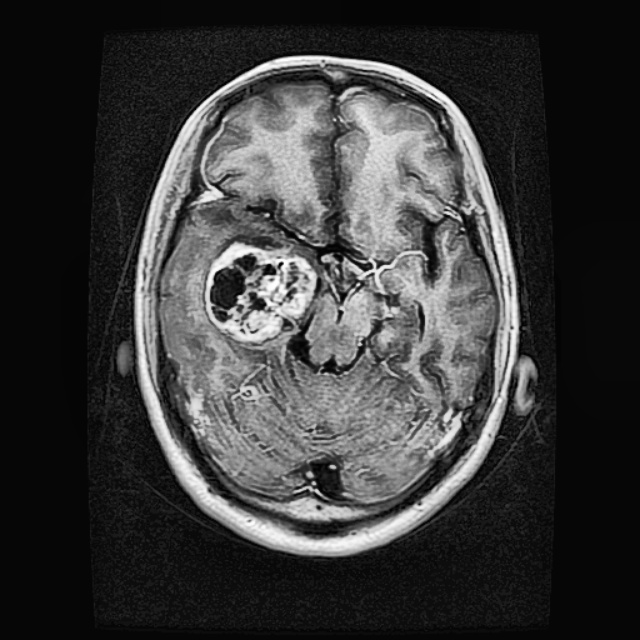Glioma: (205, 235, 315, 342)
